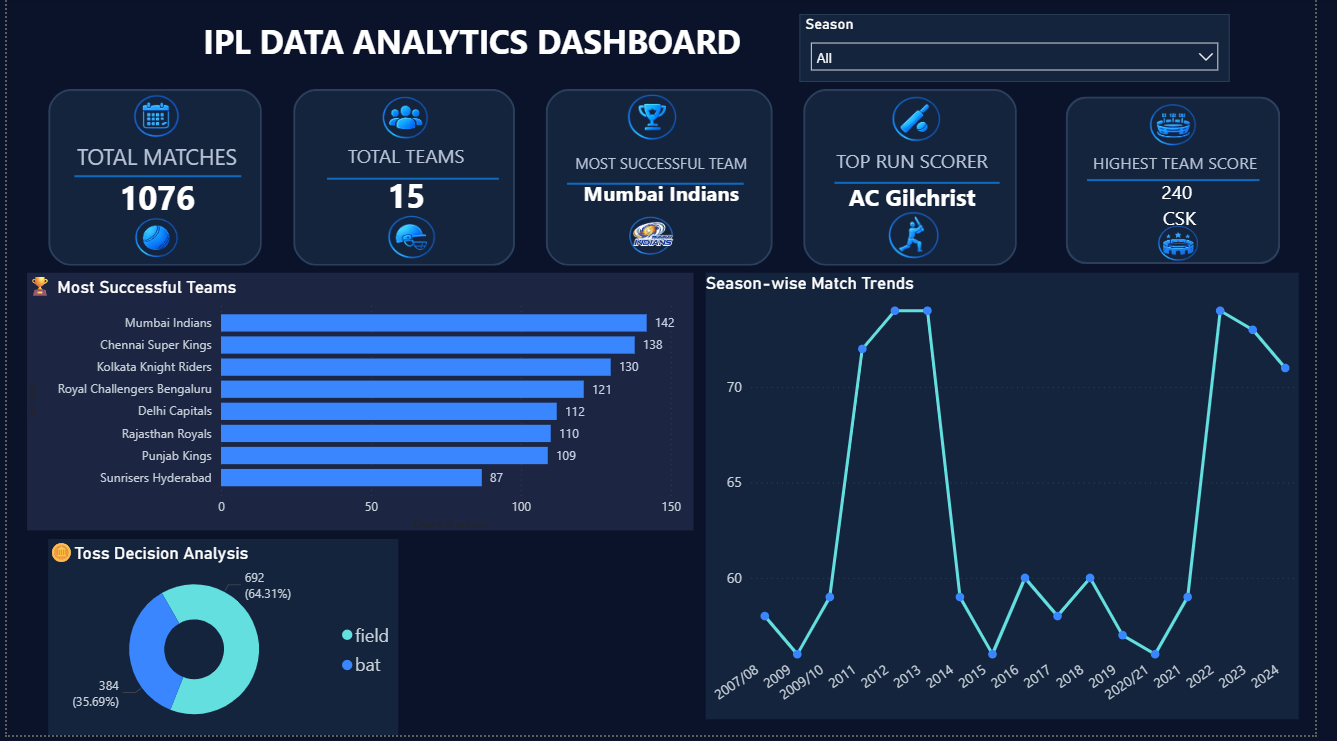

Layout of this report page (visuals, bound fields, positions):
{"tool":"powerbi","page":{"name":"Page 1","canvas":[1280,720],"ordinal":0},"visuals":[{"type":"group","id":"g1","title":"Group 2","box":[40.4,88,209.5,173.6],"z":0,"group":"g5"},{"type":"cardVisual","fields":{"Data":["Count(ipl_analysis matches.id)"]},"box":[40.4,88,209.5,173.6],"z":0,"group":"g6"},{"type":"cardVisual","fields":{"Data":["Count(ipl_analysis matches.winner)"]},"box":[279.7,88,217.3,173.6],"z":0,"group":"g7"},{"type":"cardVisual","fields":{"Data":["Min(ipl_analysis matches.winner)"]},"box":[526.8,88,222.6,173.6],"z":0,"group":"g8"},{"type":"cardVisual","fields":{"Data":["Min(ipl_analysis deliveries.batter)"]},"box":[779.1,88,209.5,173.6],"z":0,"group":"g13"},{"type":"clusteredBarChart","title":"🏆 Most Successful Teams","fields":{"Category":["ipl_analysis matches.winner"],"Y":["CountNonNull(ipl_analysis matches.winner)"]},"box":[19.6,267.8,651.8,251.9],"z":0},{"type":"group","id":"g2","title":"Group 2","box":[526.8,88,222.6,173.6],"z":1000,"group":"g5"},{"type":"image","box":[96.1,92.9,99.5,44],"z":1000,"group":"g6"},{"type":"image","box":[583.2,93.4,95.6,45.2],"z":1000,"group":"g8"},{"type":"image","box":[345,94.8,89.4,41.7],"z":1000,"group":"g7"},{"type":"shape","box":[1034.8,95.3,210,163.9],"z":1000,"group":"g12"},{"type":"image","box":[851.4,95.9,77.2,44],"z":1000,"group":"g13"},{"type":"image","box":[1099.4,102.2,82.4,41],"z":1000,"group":"g10"},{"type":"donutChart","title":"🪙Toss Decision Analysis","fields":{"Category":["ipl_analysis matches.toss_decision"],"Y":["CountNonNull(ipl_analysis matches.toss_decision)"]},"box":[40.4,528.3,342.4,192],"z":1000},{"type":"group","id":"g3","title":"Group 2","box":[279.7,88,217.3,173.6],"z":2000,"group":"g5"},{"type":"lineChart","title":"Season-wise Match Trends","fields":{"Category":["ipl_analysis matches.season"],"Y":["Count(ipl_analysis matches.id)"]},"box":[683.6,267.8,579.6,436.6],"z":2000},{"type":"textbox","box":[187.1,14.7,562.5,70.9],"z":3000},{"type":"group","id":"g4","title":"Group 2","box":[779.1,88,209.5,173.6],"z":3000,"group":"g5"},{"type":"group","id":"g5","title":"Group 5","box":[40.4,88,1222.4,173.6],"z":4000},{"type":"group","id":"g6","title":"Group 1","box":[40.4,88,209.5,173.6],"z":4000,"group":"g1"},{"type":"group","id":"g7","title":"Group 1","box":[279.7,88,217.3,173.6],"z":4000,"group":"g3"},{"type":"group","id":"g8","title":"Group 1","box":[526.8,88,222.6,173.6],"z":4000,"group":"g2"},{"type":"group","id":"g9","title":"Group 1","box":[779.1,88,209.5,173.6],"z":4000,"group":"g4"},{"type":"group","id":"g10","title":"Group 1","box":[1056.5,102.2,168.9,114],"z":4000,"group":"g11"},{"type":"shape","box":[66.2,135.8,163.4,75.3],"z":4001,"group":"g6"},{"type":"shape","box":[313.1,137.8,168,75.3],"z":4001,"group":"g7"},{"type":"shape","box":[1056.5,138.2,168.9,78],"z":4001,"group":"g10"},{"type":"shape","box":[809.4,141.7,161.5,76],"z":4001,"group":"g13"},{"type":"shape","box":[547.1,142.8,172.8,75.3],"z":4001,"group":"g8"},{"type":"slicer","title":"Season","fields":{"Values":["ipl_analysis matches.season"]},"box":[775.3,14.7,420.7,66],"z":5000},{"type":"group","id":"g11","title":"Group 2","box":[1056.5,102.2,168.9,153.8],"z":5000,"group":"g12"},{"type":"image","box":[837,208.4,100.8,46.5],"z":5000,"group":"g13"},{"type":"image","box":[358.4,211.4,75.9,42.8],"z":5000,"group":"g3"},{"type":"image","box":[591.1,213.1,77.2,37.9],"z":5000,"group":"g2"},{"type":"image","box":[105.3,213.9,82.5,39.1],"z":5000,"group":"g1"},{"type":"image","box":[1103.7,220.6,83.2,35.5],"z":5000,"group":"g11"},{"type":"textbox","box":[1021.9,144.7,240.9,45.5],"z":6000,"group":"g12"},{"type":"group","id":"g12","title":"Group 3","box":[1021.9,95.3,240.9,163.9],"z":7000,"group":"g5"},{"type":"textbox","box":[1078.3,168.3,137,56.3],"z":7000,"group":"g12"},{"type":"group","id":"g13","title":"Group 4","box":[779.1,88,209.5,173.6],"z":7001,"group":"g9"}]}

Visuals, with their boxes in screenshot pixels (x1, y1, x2, y2), scaled from the page's 1280x720 canvas onto the 1337x741 screenshot:
"Group 2" group: select_region(42, 91, 261, 269)
cardVisual - Count(ipl_analysis matches.id): select_region(42, 91, 261, 269)
cardVisual - Count(ipl_analysis matches.winner): select_region(292, 91, 519, 269)
cardVisual - Min(ipl_analysis matches.winner): select_region(550, 91, 783, 269)
cardVisual - Min(ipl_analysis deliveries.batter): select_region(814, 91, 1033, 269)
"🏆 Most Successful Teams" clusteredBarChart: select_region(20, 276, 701, 535)
"Group 2" group: select_region(550, 91, 783, 269)
image: select_region(100, 96, 204, 141)
image: select_region(609, 96, 709, 143)
image: select_region(360, 98, 454, 140)
shape: select_region(1081, 98, 1300, 267)
image: select_region(889, 99, 970, 144)
image: select_region(1148, 105, 1234, 147)
"🪙Toss Decision Analysis" donutChart: select_region(42, 544, 400, 740)
"Group 2" group: select_region(292, 91, 519, 269)
"Season-wise Match Trends" lineChart: select_region(714, 276, 1319, 725)
textbox: select_region(195, 15, 783, 88)
"Group 2" group: select_region(814, 91, 1033, 269)
"Group 5" group: select_region(42, 91, 1319, 269)
"Group 1" group: select_region(42, 91, 261, 269)
"Group 1" group: select_region(292, 91, 519, 269)
"Group 1" group: select_region(550, 91, 783, 269)
"Group 1" group: select_region(814, 91, 1033, 269)
"Group 1" group: select_region(1104, 105, 1280, 223)
shape: select_region(69, 140, 240, 217)
shape: select_region(327, 142, 503, 219)
shape: select_region(1104, 142, 1280, 223)
shape: select_region(845, 146, 1014, 224)
shape: select_region(571, 147, 752, 224)
"Season" slicer: select_region(810, 15, 1249, 83)
"Group 2" group: select_region(1104, 105, 1280, 263)
image: select_region(874, 214, 980, 262)
image: select_region(374, 218, 454, 262)
image: select_region(617, 219, 698, 258)
image: select_region(110, 220, 196, 260)
image: select_region(1153, 227, 1240, 264)
textbox: select_region(1067, 149, 1319, 196)
"Group 3" group: select_region(1067, 98, 1319, 267)
textbox: select_region(1126, 173, 1269, 231)
"Group 4" group: select_region(814, 91, 1033, 269)
